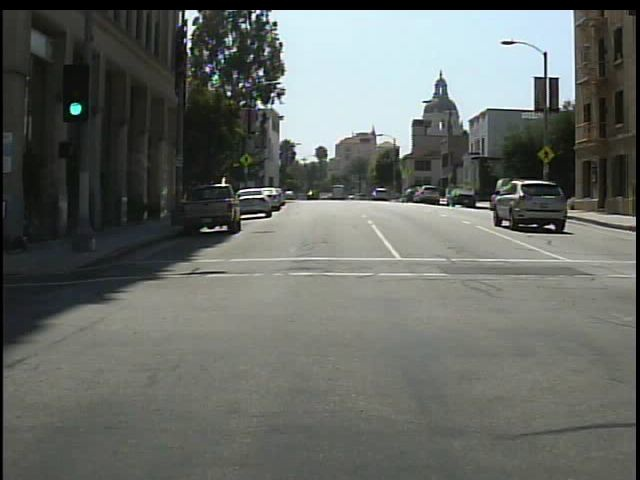person: (3, 161, 12, 267)
